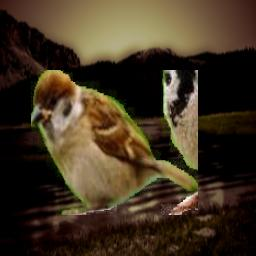Sparrow: (31, 70, 198, 215)
